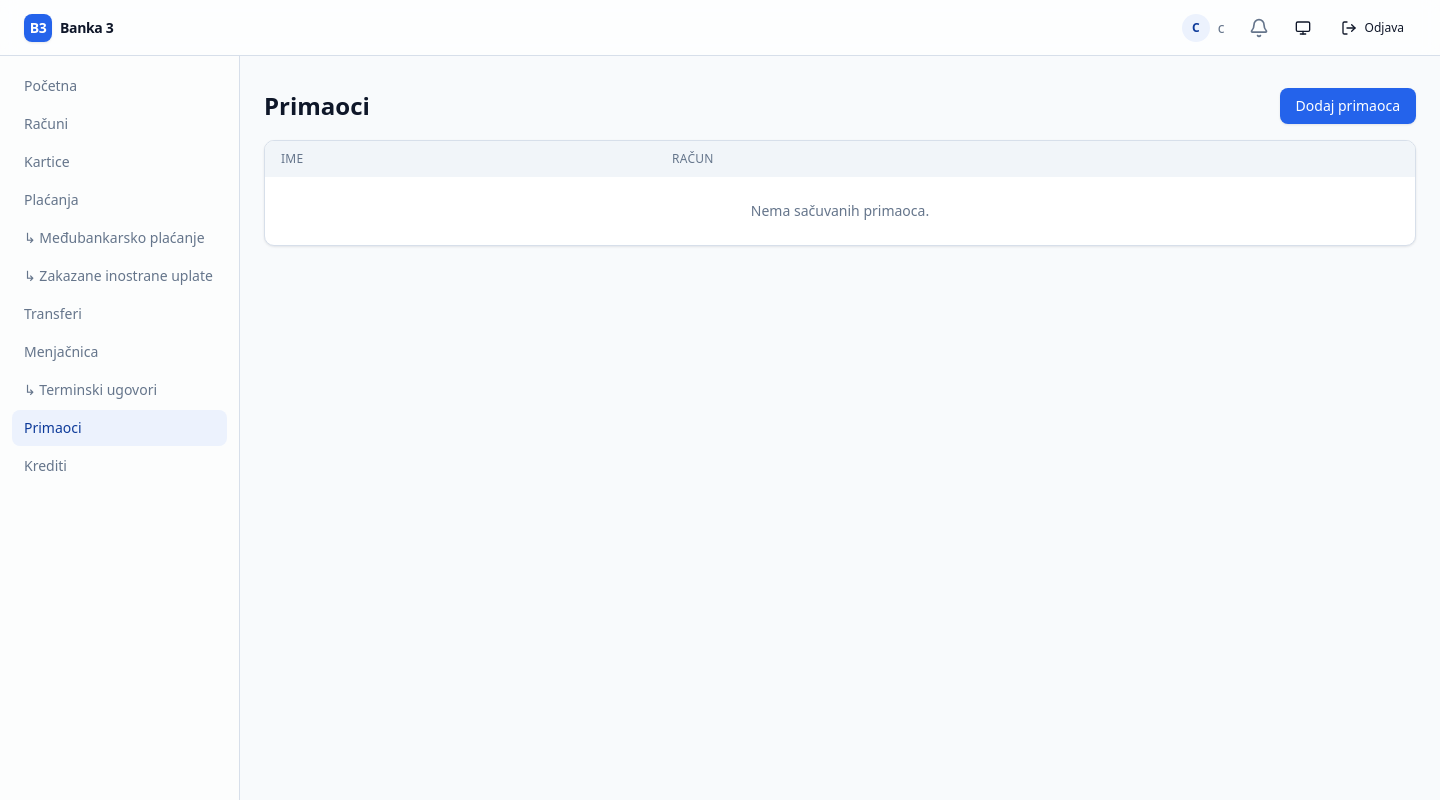
it: Celina 2 — primaoci › klijent dodaje novog primaoca
This screenshot has width=1440, height=800.
Expected: the text "Nema sačuvanih primaoca." is shown, [265,177,1415,245]
Click the button "Dodaj primaoca": (1348, 106) [1280,88,1416,124]
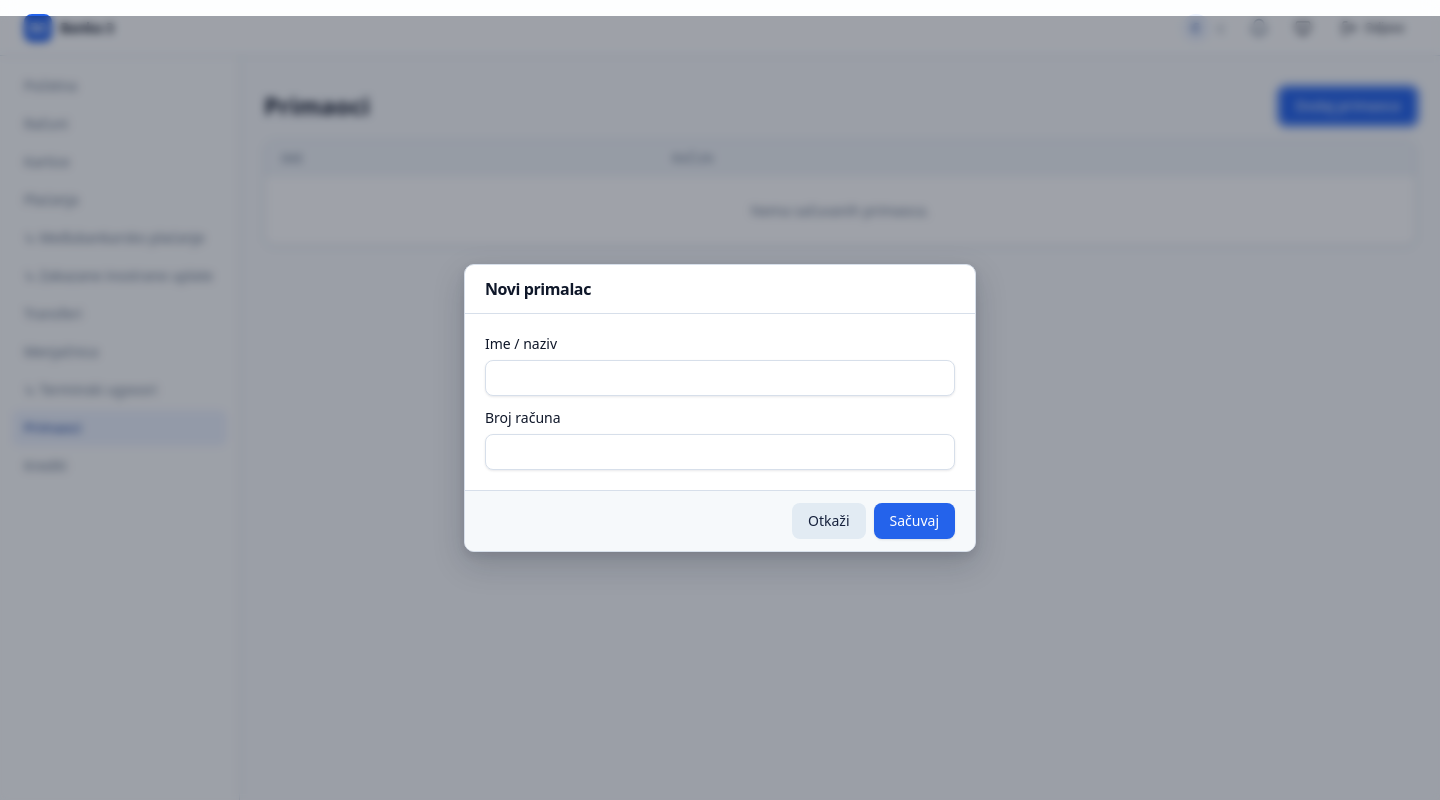
In the field named "name" below "Ime / naziv": (720, 378) [485,360,955,396], type "EPS Snabdevanje"
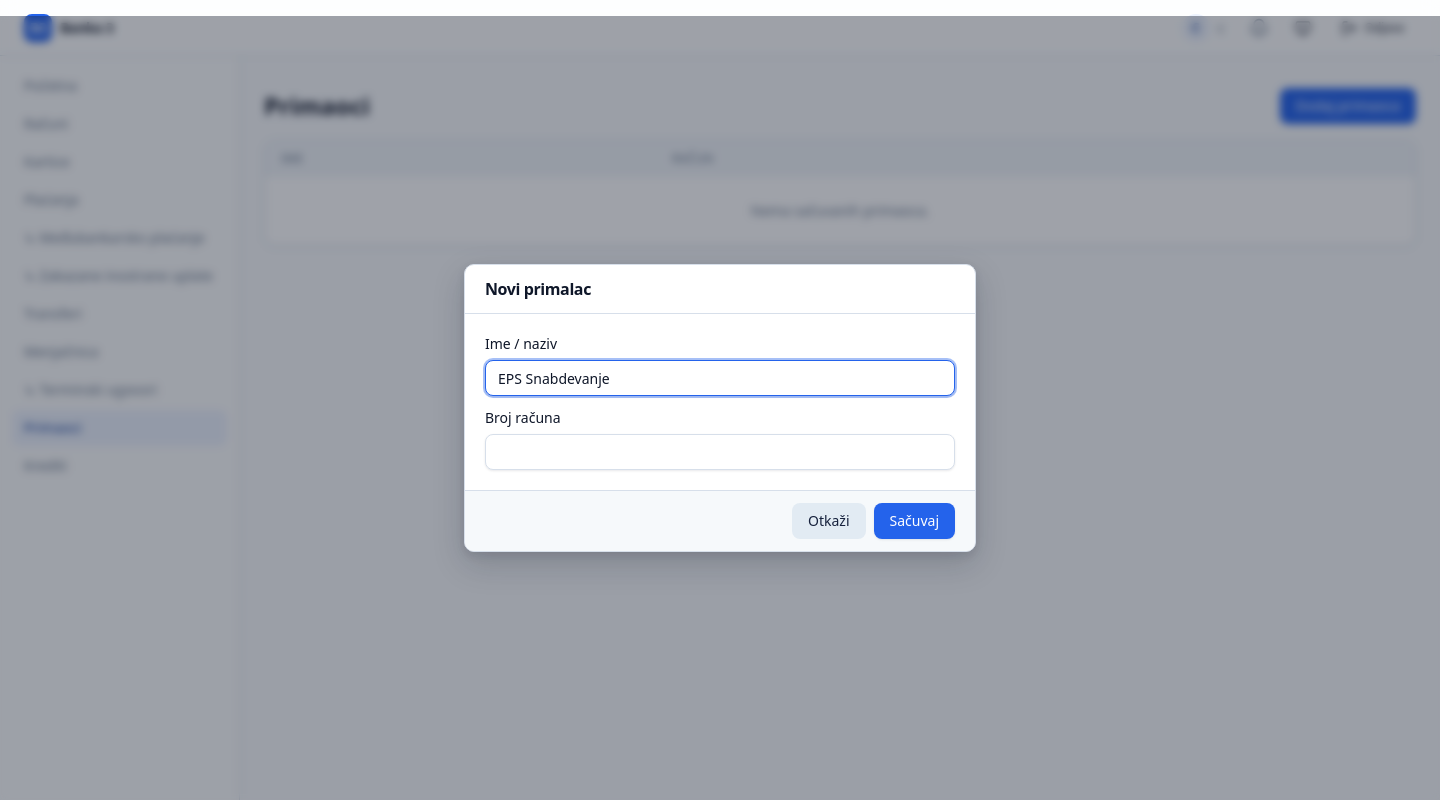
In the field named "accountNumber" below "Broj računa": (720, 452) [485,434,955,470], type "160005412345678905"
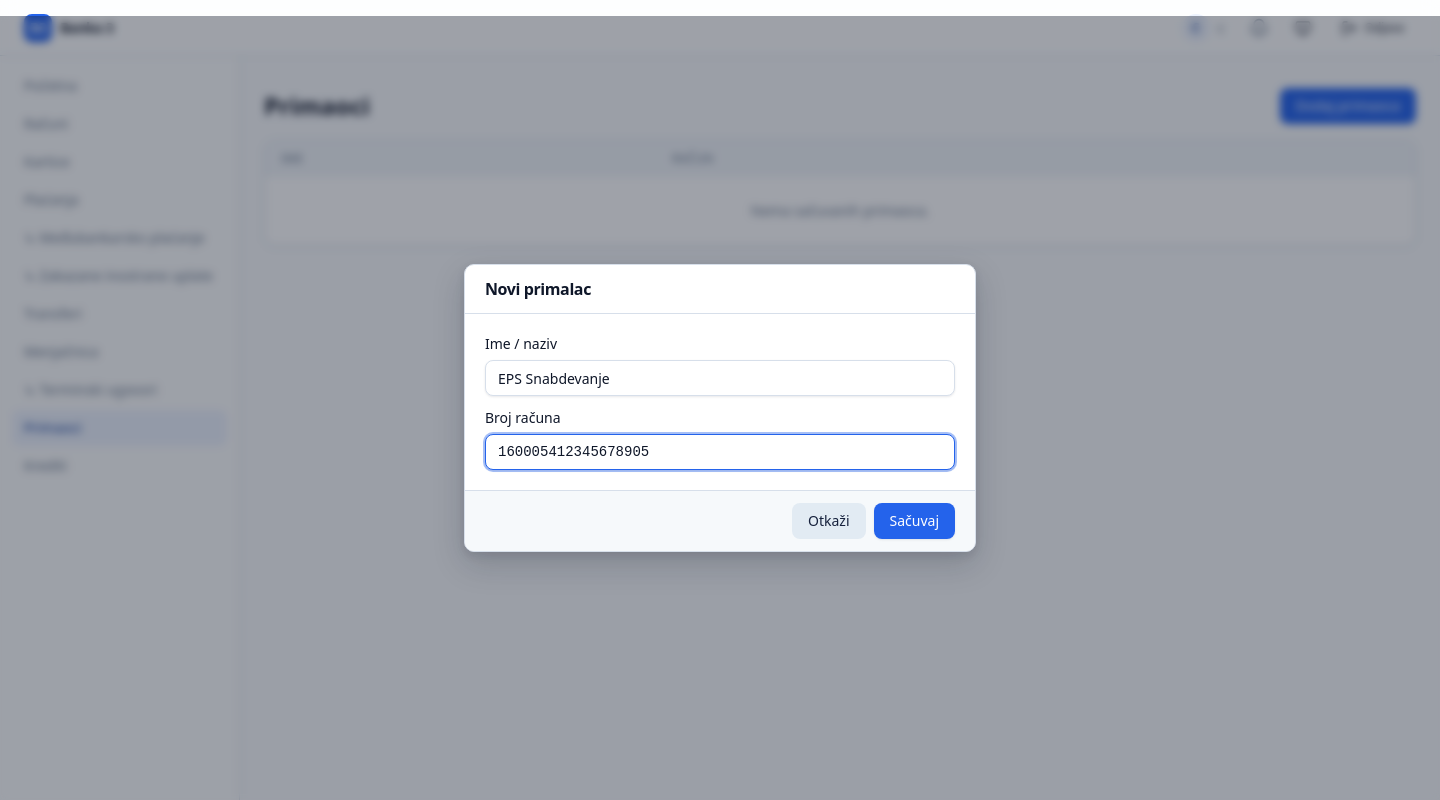
Click the button "Sačuvaj": (915, 521) [874,503,956,539]
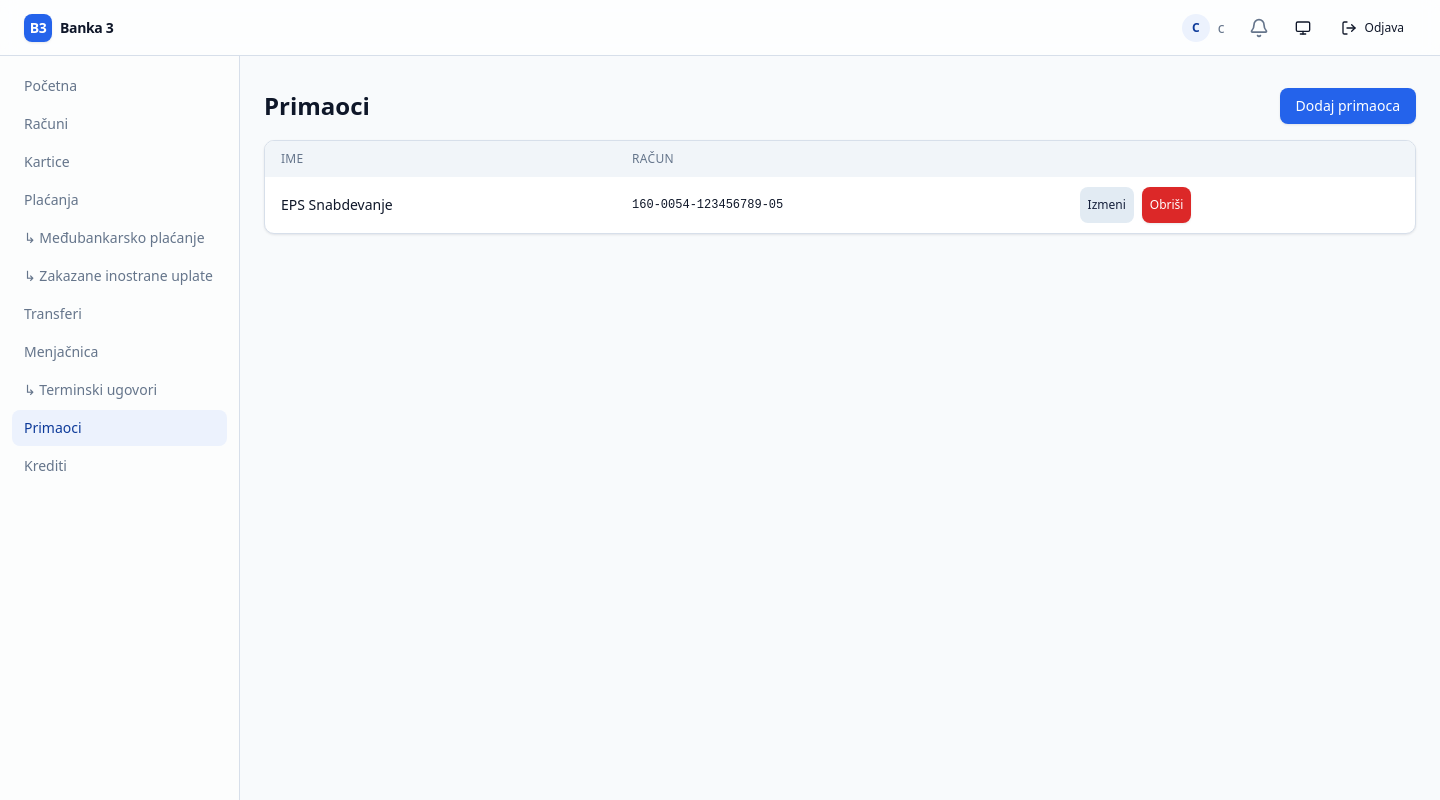
Result: the text "EPS Snabdevanje" is shown at [265,177,616,233]
Result: the text "160-0054-123456789-05" is shown at [616,177,1064,233]
